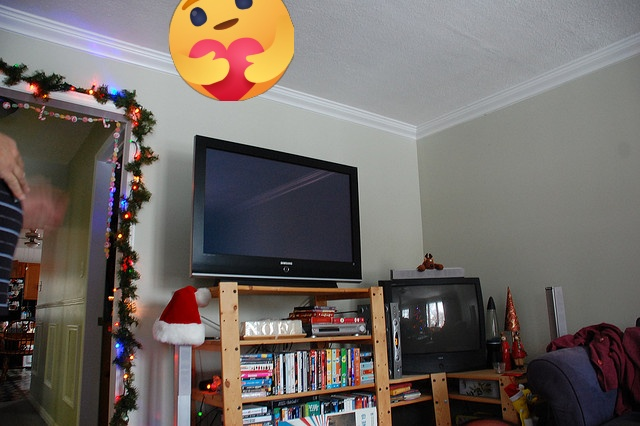care: (169, 0, 294, 101)
